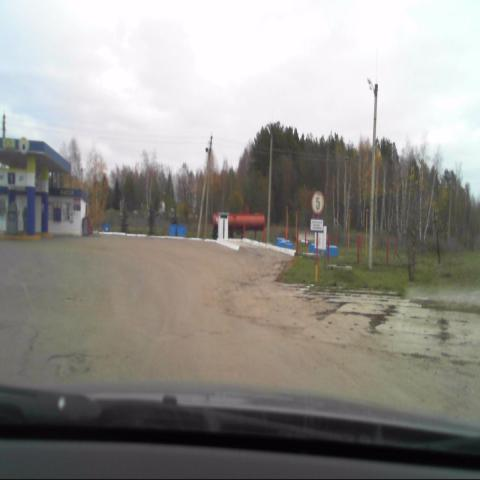3_24: (311, 188, 324, 213)
